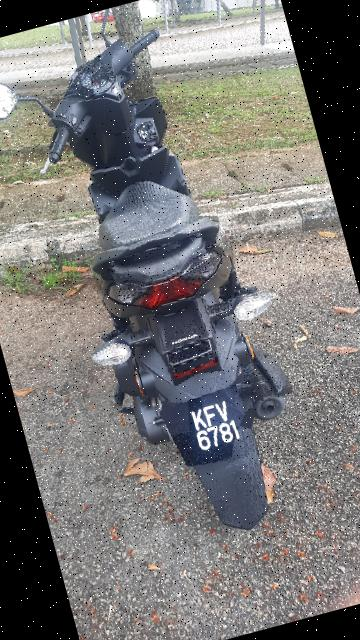License_Plate: (144, 371, 284, 487)
motorcycle: (1, 1, 332, 571)
